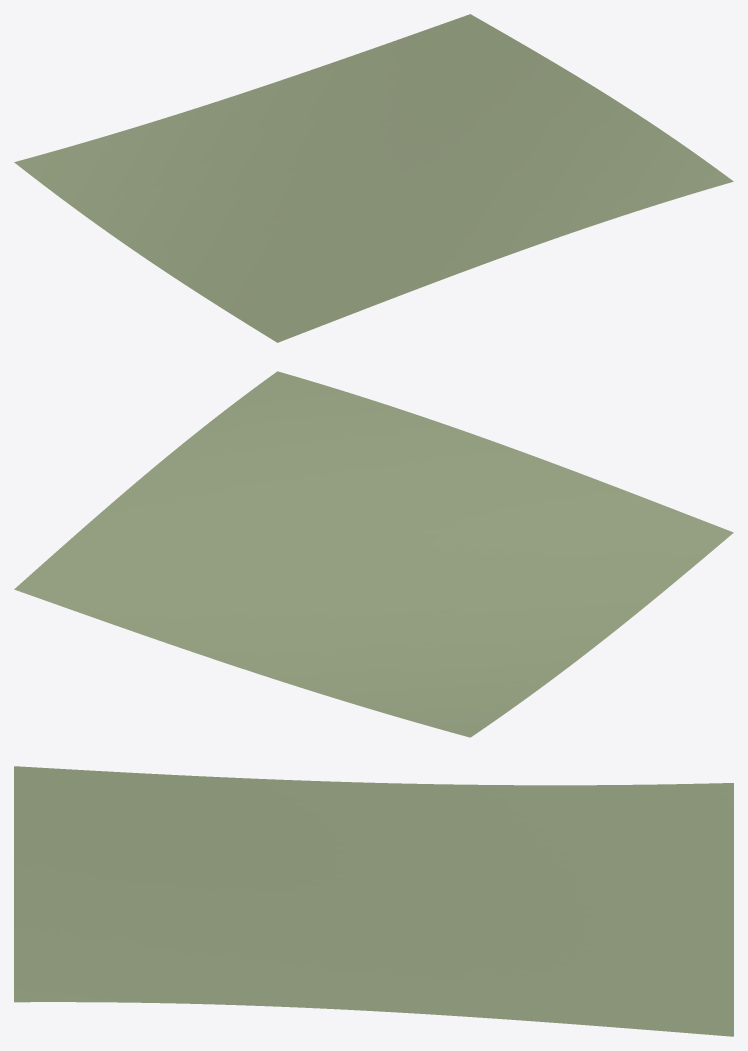
Rendered from alpine-0-9.glb.
3 renders of one model, top to bottom at view 1: azimuth 30°, elevation 25°; view 2: azimuth 150°, elevation 25°; view 3: azimuth 270°, elevation 25°, orthographic. The views are drawn at different scales.
Visible parts, largest first — view 1: alpine-0-9; view 2: alpine-0-9; view 3: alpine-0-9.
Boxes of the visible parts, x1,y1,x2,y2 form: alpine-0-9: [14, 14, 733, 342]; alpine-0-9: [14, 371, 733, 737]; alpine-0-9: [14, 766, 733, 1036].
Size of the model in its own units: 256 by 34.32 by 256.
